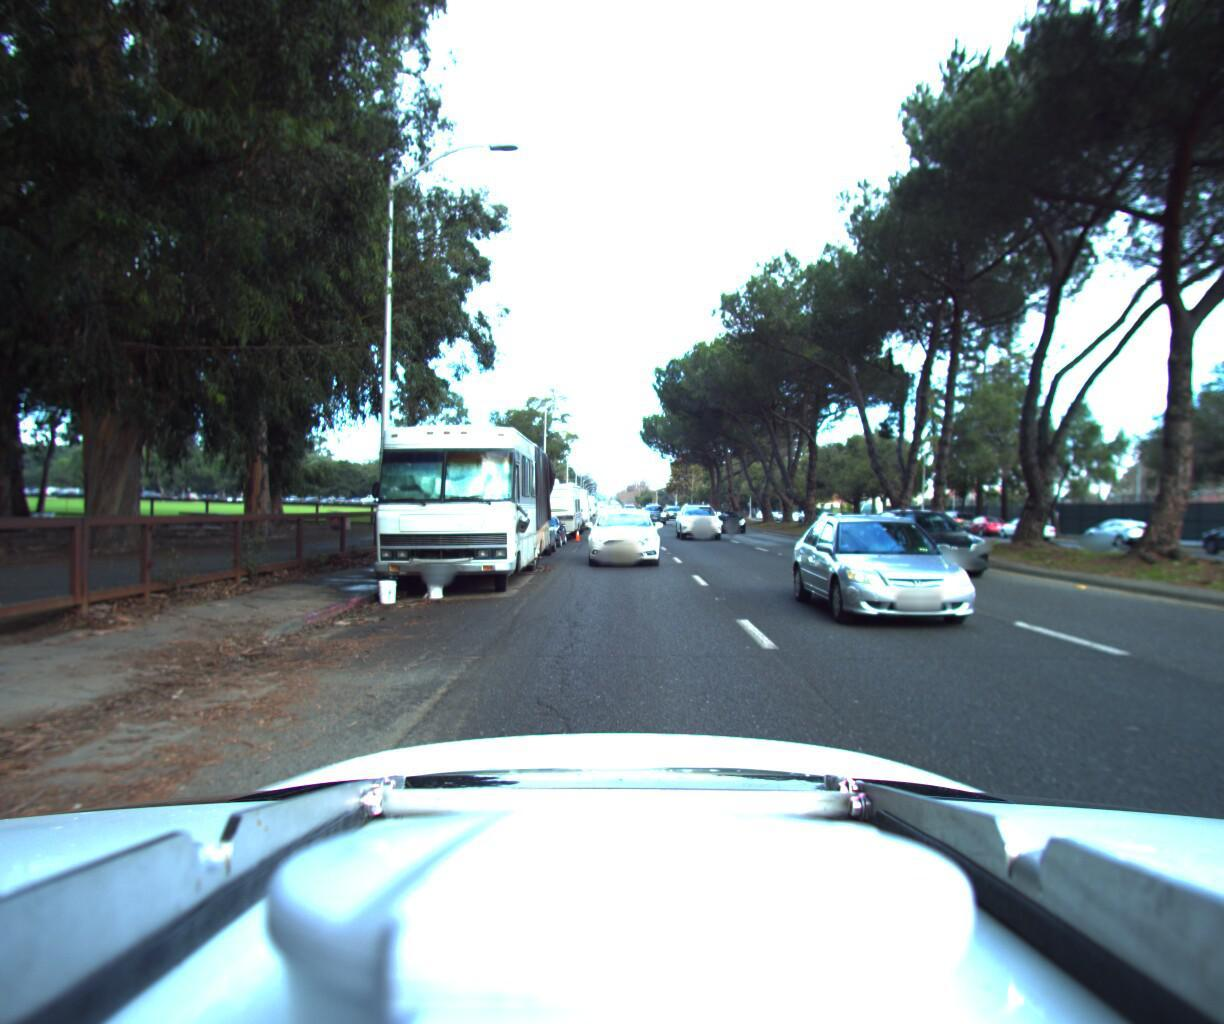car: (797, 508, 1072, 660), (867, 503, 1037, 586), (579, 502, 664, 566), (492, 506, 556, 555), (1075, 511, 1164, 545), (672, 499, 731, 539), (513, 508, 567, 547), (992, 509, 1059, 537), (1189, 509, 1224, 557), (926, 502, 981, 531), (957, 508, 1012, 532), (713, 505, 751, 529), (638, 497, 665, 522)
other_vehicle: (349, 400, 557, 600), (513, 471, 582, 539), (540, 480, 592, 528)
